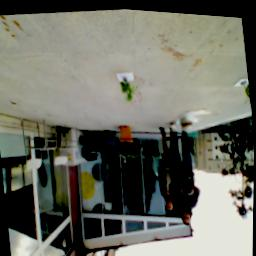herb: (119, 74, 136, 101)
